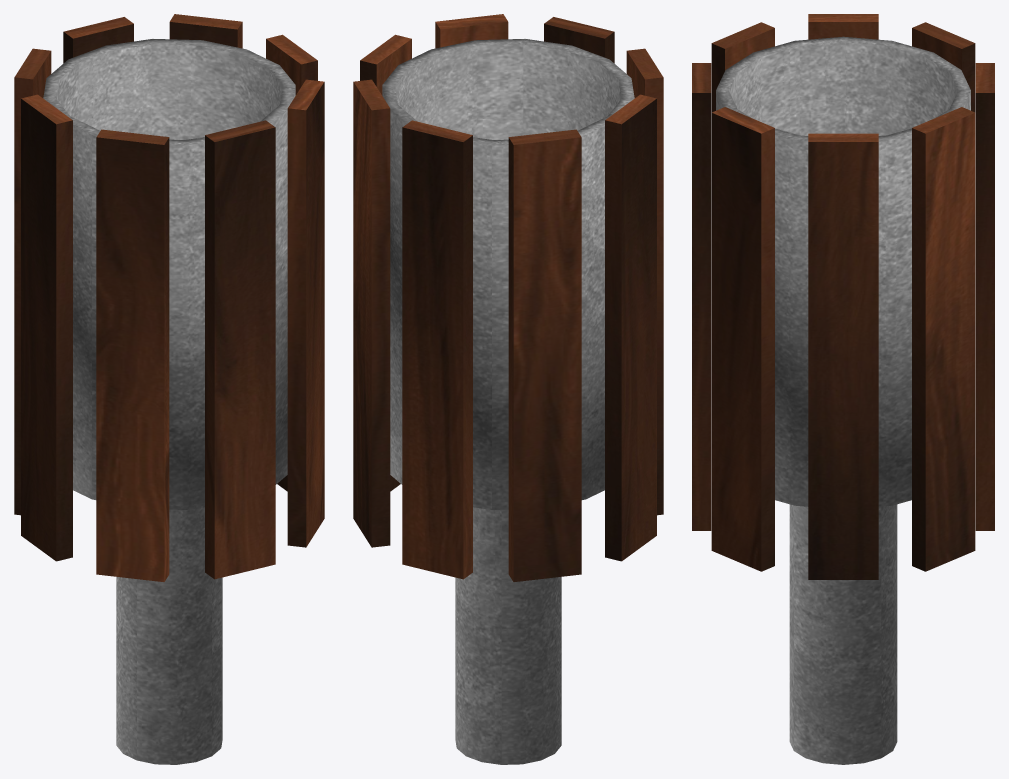
Rendered from Trash Can 2.fbx.
3 views of the same model, side by side, from view 1: azimuth 30°, elevation 25°; view 2: azimuth 150°, elevation 25°; view 3: azimuth 270°, elevation 25° (orthographic).
Visible parts, largest first — view 1: Cube, Cylinder; view 2: Cube, Cylinder; view 3: Cube, Cylinder.
Boxes of the visible parts, x1=… form: Cube: x1=14, y1=14, x2=324, y2=581; Cylinder: x1=43, y1=39, x2=295, y2=764; Cube: x1=353, y1=14, x2=663, y2=581; Cylinder: x1=382, y1=39, x2=634, y2=764; Cube: x1=692, y1=14, x2=994, y2=579; Cylinder: x1=716, y1=36, x2=970, y2=764.
Bounding box in the file's own units: 83.47 × 202 × 83.47.
